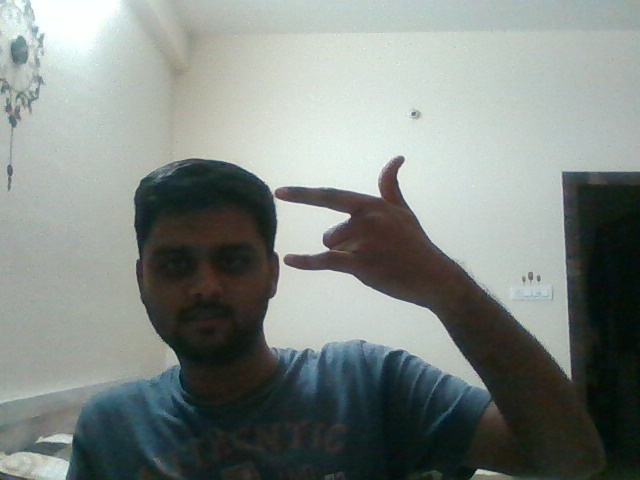haila: (276, 141, 461, 302)
